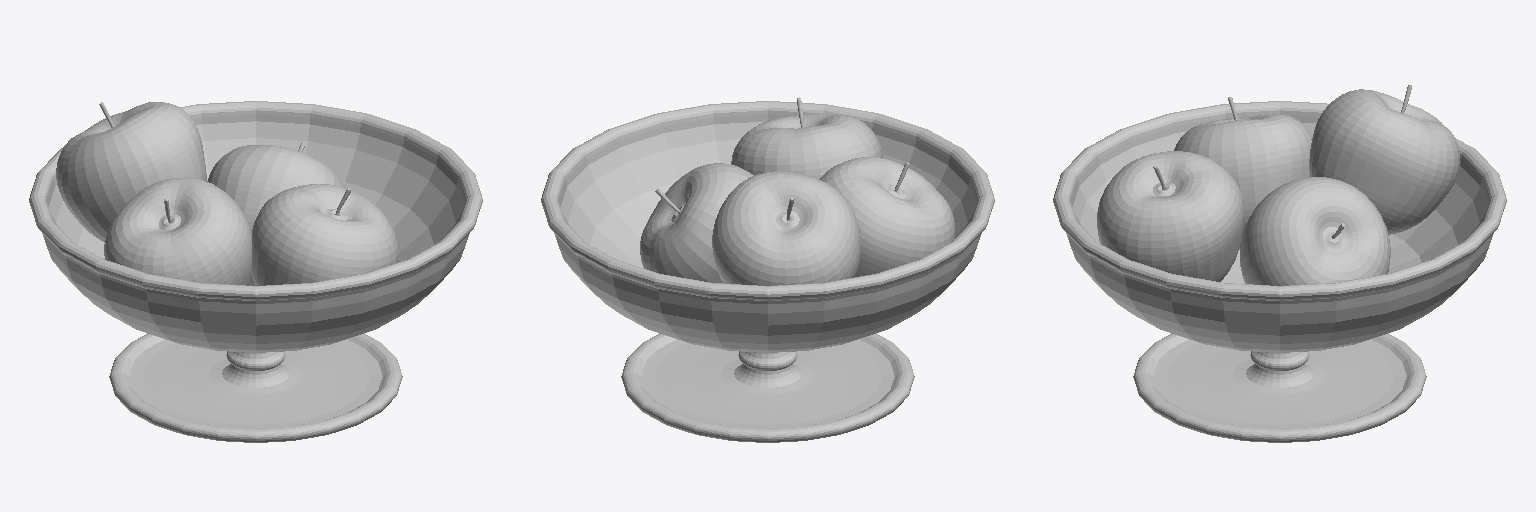
Rendered from apple3.obj.
3 views of the same model, side by side, from view 1: azimuth 30°, elevation 25°; view 2: azimuth 150°, elevation 25°; view 3: azimuth 270°, elevation 25° (orthographic).
Visible parts, largest first — view 1: _______; view 2: _______; view 3: _______.
Part boxes in pixels (x1,y1,x2,y2): _______: (29, 101, 482, 442); _______: (541, 97, 994, 442); _______: (1053, 85, 1506, 442).
Bounding box in the file's own units: 23.39 × 14.56 × 23.39.